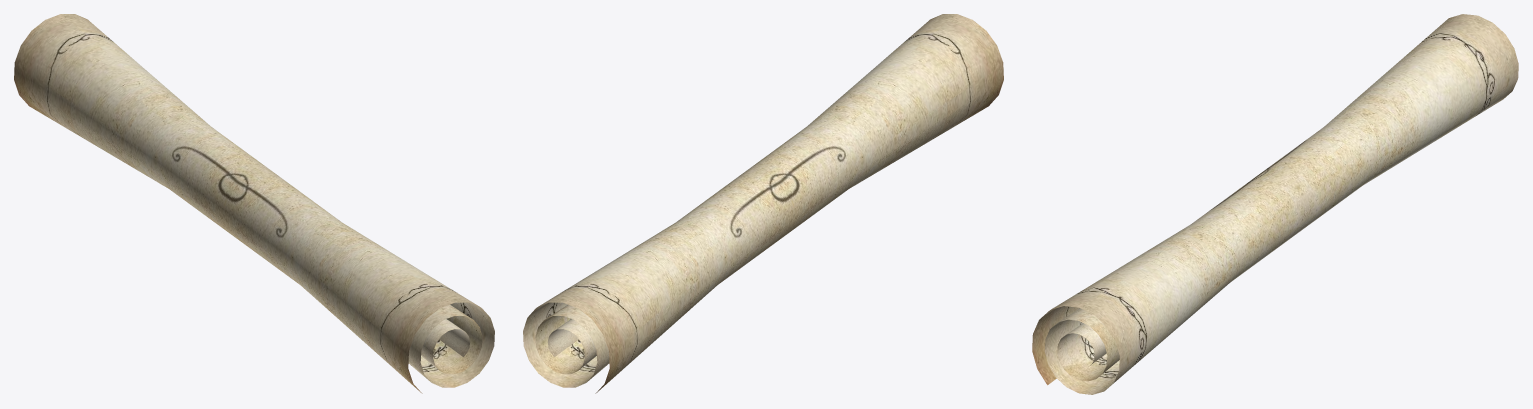
File: Scroll01.fbx
The picture shows the model from 3 angles, left to right: view 1: azimuth 30°, elevation 25°; view 2: azimuth 150°, elevation 25°; view 3: azimuth 330°, elevation 25°; orthographic projection.
Parts seen in each view (by area): view 1: Plane002; view 2: Plane002; view 3: Plane002.
Part boxes in pixels (bbox=[...]): Plane002: bbox=[14, 14, 494, 393]; Plane002: bbox=[523, 14, 1003, 393]; Plane002: bbox=[1032, 14, 1518, 394].
Bounding box in the file's own units: 4.85 × 4.54 × 38.26.
Materials: 1 (1 with a texture image).
